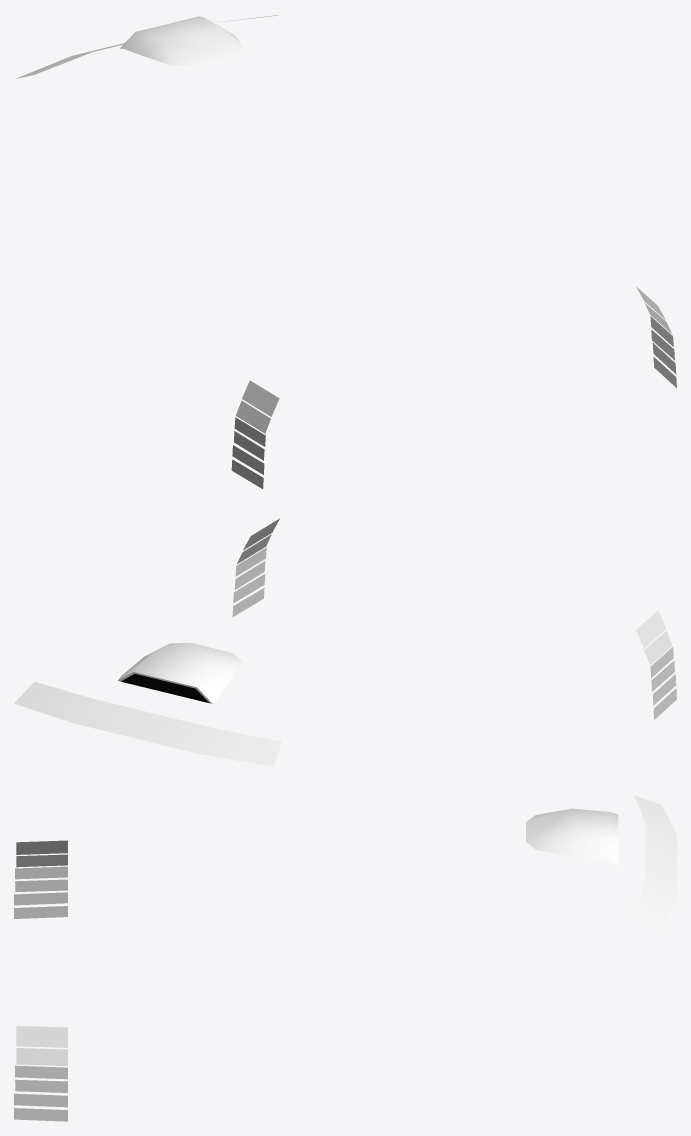
The picture shows the model from 3 angles, top to bottom: view 1: azimuth 30°, elevation 25°; view 2: azimuth 150°, elevation 25°; view 3: azimuth 270°, elevation 25°; orthographic projection.
Visible parts, largest first — view 1: rf_a_st; view 2: rf_a_st; view 3: rf_a_st.
Part boxes in pixels (bbox=[...]): rf_a_st: bbox=[15, 14, 676, 488]; rf_a_st: bbox=[14, 518, 676, 766]; rf_a_st: bbox=[14, 795, 676, 1121].
Bounding box in the file's own units: 2.13 × 0.9573 × 2.91.
3 materials, 3 textured.
